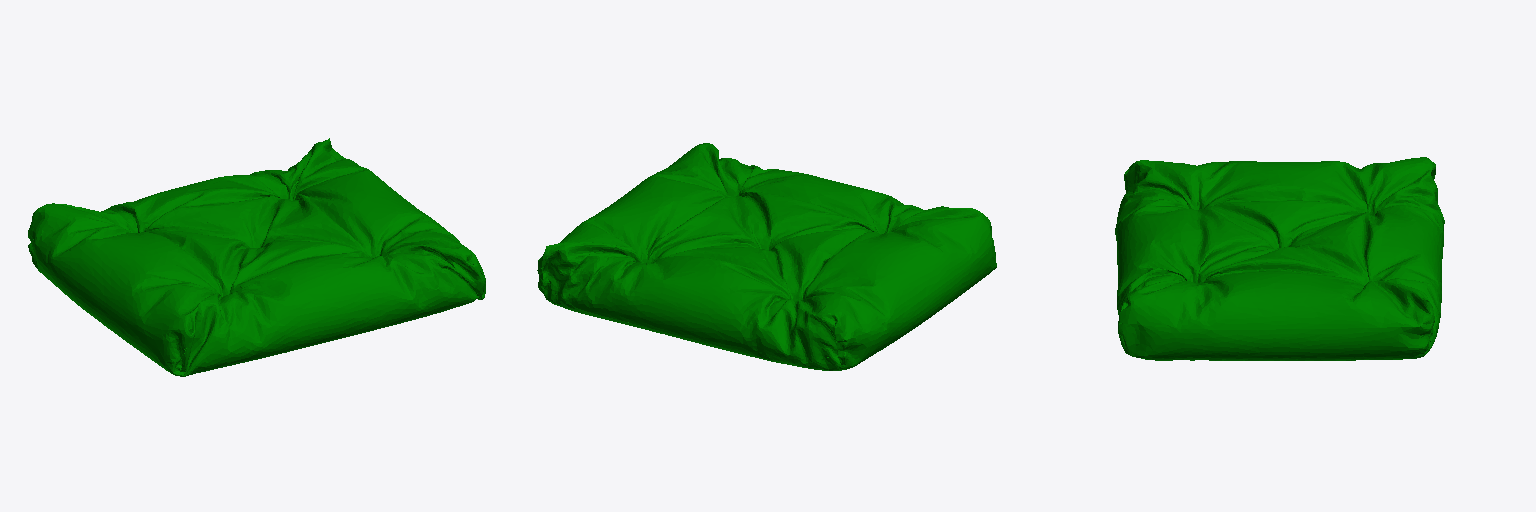
The model's file is seat.obj.
3 renders of one model, left to right at view 1: azimuth 30°, elevation 25°; view 2: azimuth 150°, elevation 25°; view 3: azimuth 270°, elevation 25°, orthographic.
Parts seen in each view (by area): view 1: seat; view 2: seat; view 3: seat.
Boxes of the visible parts, x1,y1,x2,y2 form: seat: [28, 138, 485, 376]; seat: [537, 143, 996, 370]; seat: [1115, 157, 1444, 360].
Bounding box in the file's own units: 0.6366 × 0.1196 × 0.5525.